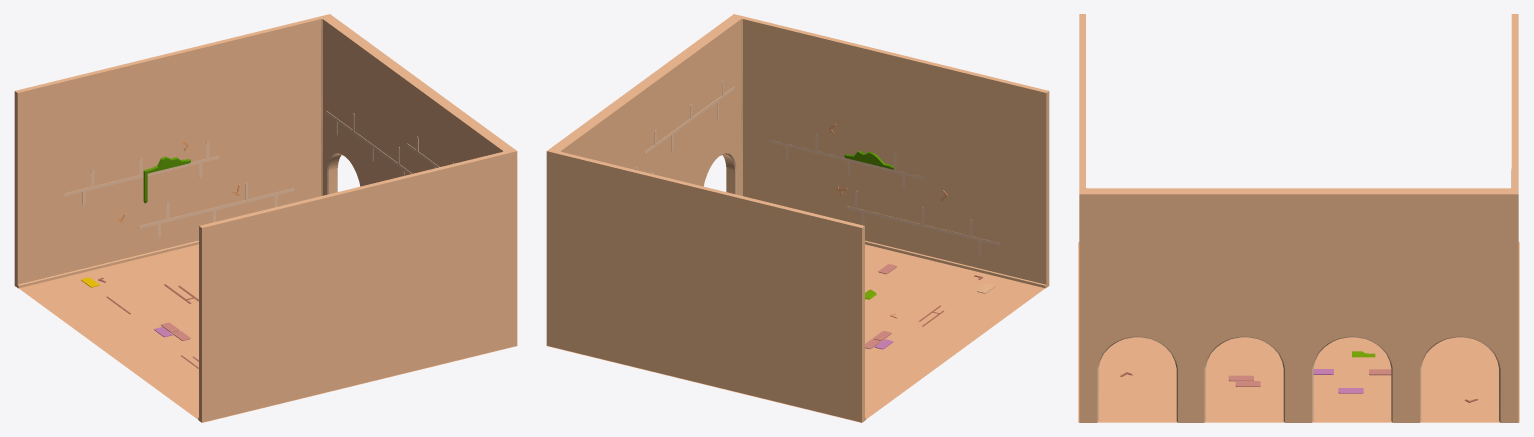
Rendered from hideandsmash_base.fbx.
The picture shows the model from 3 angles, left to right: view 1: azimuth 30°, elevation 25°; view 2: azimuth 150°, elevation 25°; view 3: azimuth 270°, elevation 25°; orthographic projection. The views are drawn at different scales.
Visible parts, largest first — view 1: walls_geo, ground_geo, brickLines1 (×2), brickLines2, moss_L_geo; view 2: walls_geo, ground_geo, brickLines2 (×2), brickLines1; view 3: walls_geo, ground_geo.
Part boxes in pixels (<box>): walls_geo: <box>14,14,517,422</box>; ground_geo: <box>19,244,517,422</box>; brickLines1 (×2): <box>63,111,412,205</box>; brickLines2: <box>138,182,294,238</box>; moss_L_geo: <box>143,156,190,203</box>; walls_geo: <box>546,14,1049,422</box>; ground_geo: <box>547,244,1044,422</box>; brickLines2 (×2): <box>644,80,1000,255</box>; brickLines1: <box>768,133,924,189</box>; walls_geo: <box>1079,14,1518,422</box>; ground_geo: <box>1078,242,1519,422</box>.
Size of the model in its own units: 111 by 67.15 by 114.
